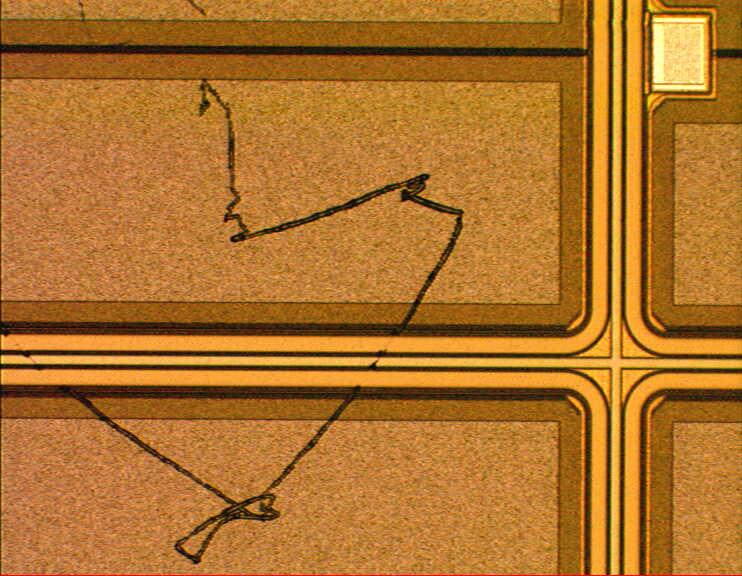SCRATCH: (1, 1, 473, 569)
